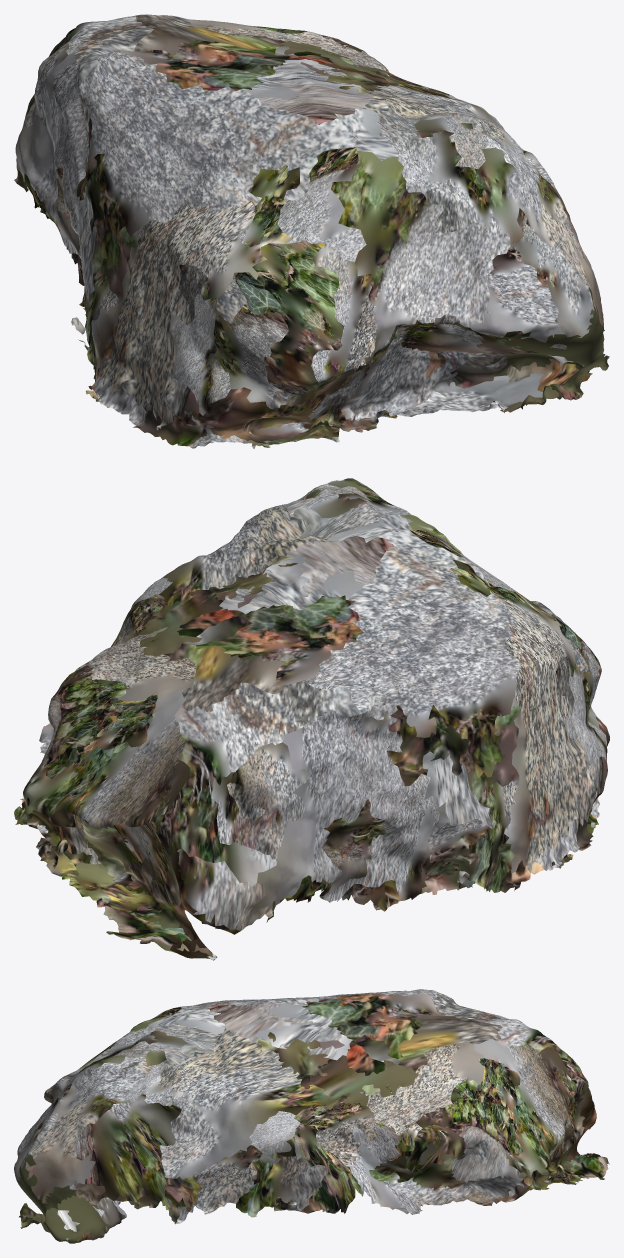
The model's file is cleaned.fbx.
3 renders of one model, top to bottom at view 1: azimuth 30°, elevation 25°; view 2: azimuth 150°, elevation 25°; view 3: azimuth 270°, elevation 25°, orthographic. The views are drawn at different scales.
Visible parts, largest first — view 1: nodes[0]; view 2: nodes[0]; view 3: nodes[0].
Boxes of the visible parts, x1=… form: nodes[0]: x1=14, y1=14, x2=609, y2=448; nodes[0]: x1=14, y1=478, x2=609, y2=960; nodes[0]: x1=14, y1=989, x2=609, y2=1243.
Size of the model in its own units: 149 by 86.82 by 228.
